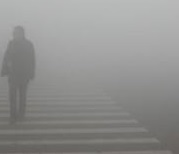person: (2, 23, 38, 124)
